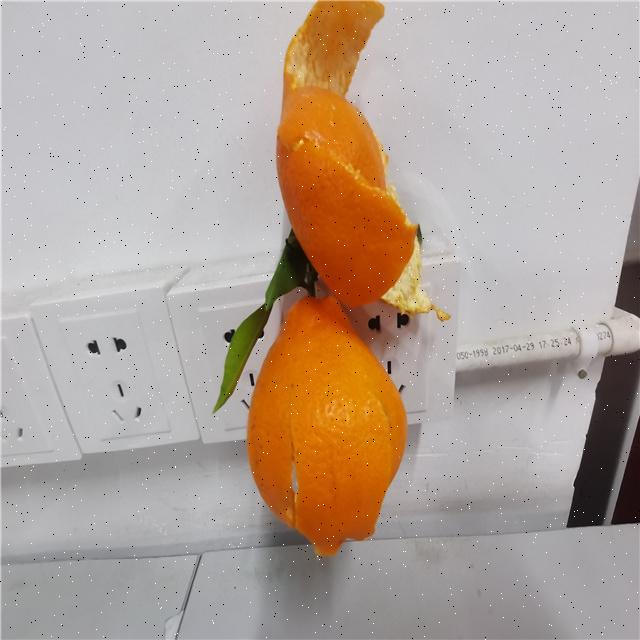orange-peel: (245, 293, 408, 557)
